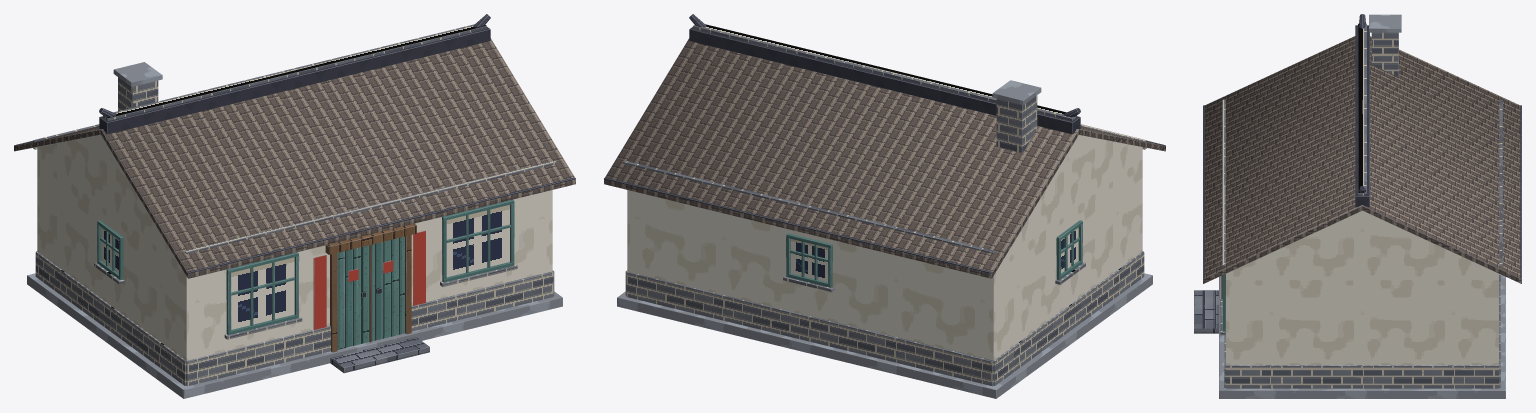
The model's file is cn_brick_house_0.glb.
The picture shows the model from 3 angles, left to right: view 1: azimuth 30°, elevation 25°; view 2: azimuth 150°, elevation 25°; view 3: azimuth 270°, elevation 25°; orthographic projection. The views are drawn at different scales.
Visible parts, largest first — view 1: cn_brick_house_1; view 2: cn_brick_house_1; view 3: cn_brick_house_1.
Part boxes in pixels (x1,y1,x2,y2): cn_brick_house_1: (14, 14, 575, 398); cn_brick_house_1: (604, 14, 1165, 398); cn_brick_house_1: (1194, 14, 1521, 398).
Bounding box in the file's own units: 9.07 × 5.53 × 7.2.
13 materials, 13 textured.
